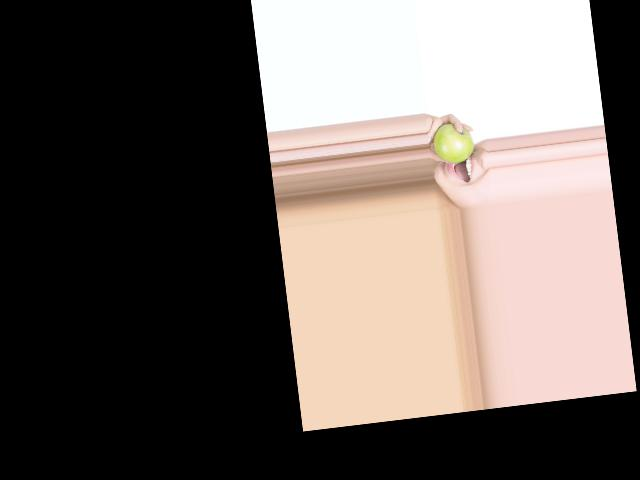apple: (431, 119, 476, 167)
